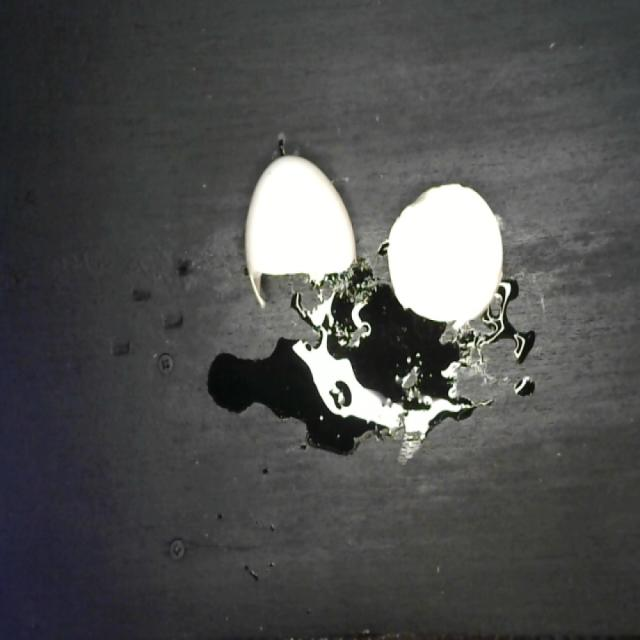biodegradable: (242, 150, 508, 335)
